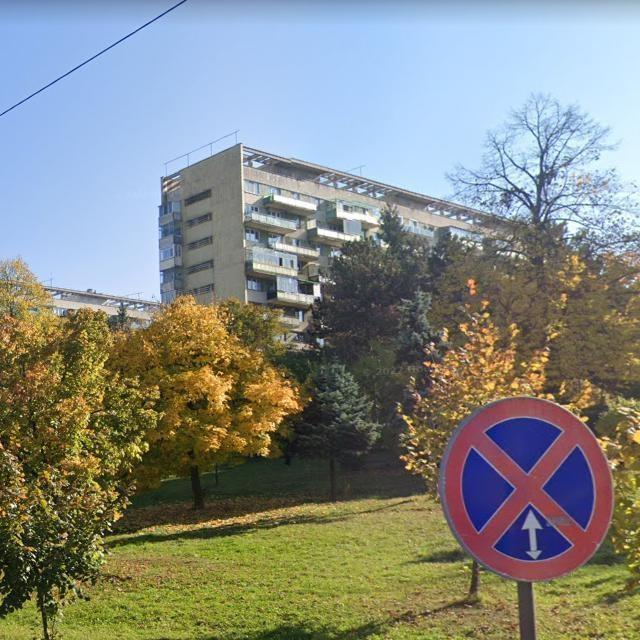forb_waiting: (438, 396, 614, 580)
